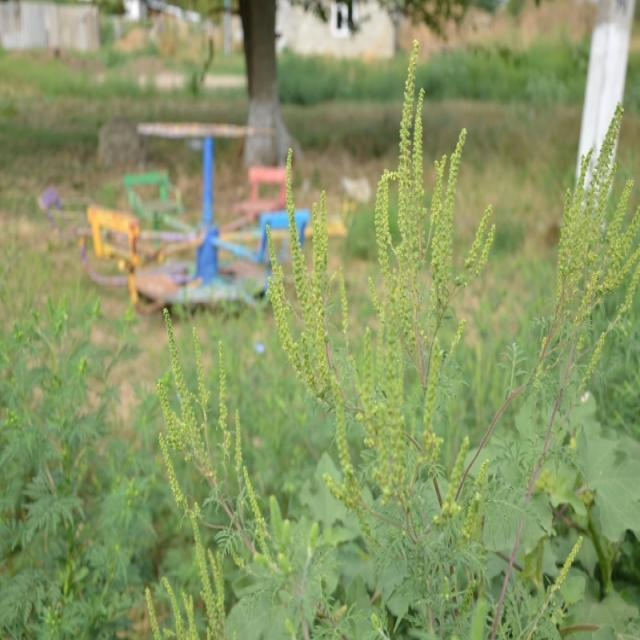ambrosia: (241, 46, 511, 535), (529, 93, 640, 391), (132, 314, 252, 555)
